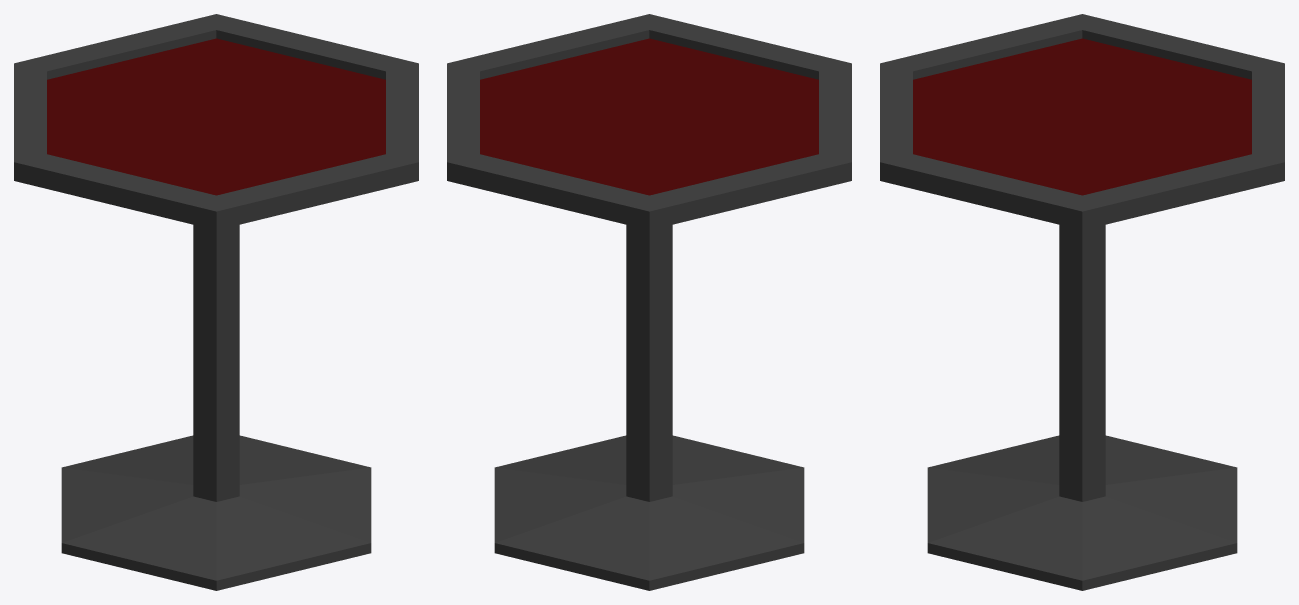
The model's file is table.fbx.
3 views of the same model, side by side, from view 1: azimuth 30°, elevation 25°; view 2: azimuth 150°, elevation 25°; view 3: azimuth 270°, elevation 25° (orthographic).
Parts seen in each view (by area): view 1: Cylinder001; view 2: Cylinder001; view 3: Cylinder001.
Boxes of the visible parts, x1,y1,x2,y2 form: Cylinder001: [14, 14, 418, 590]; Cylinder001: [447, 14, 851, 590]; Cylinder001: [880, 14, 1284, 590].
Size of the model in its own units: 165 by 157 by 143.
